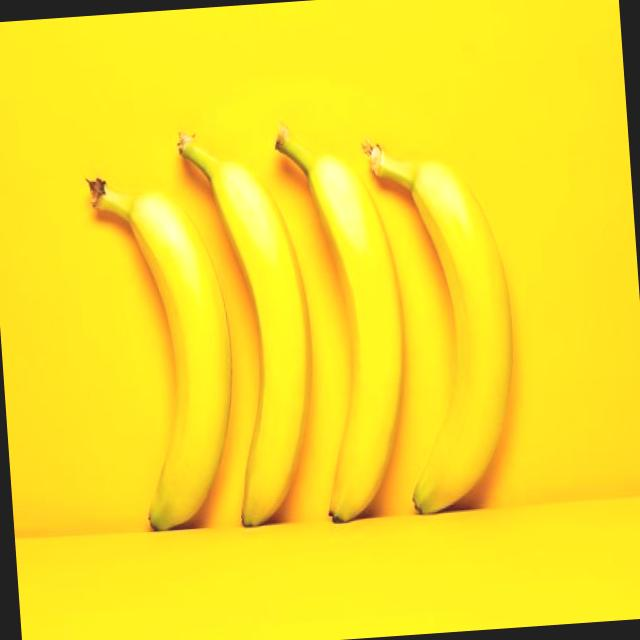banana: (373, 146, 544, 528), (294, 138, 409, 548), (115, 187, 238, 560), (214, 170, 316, 546)
